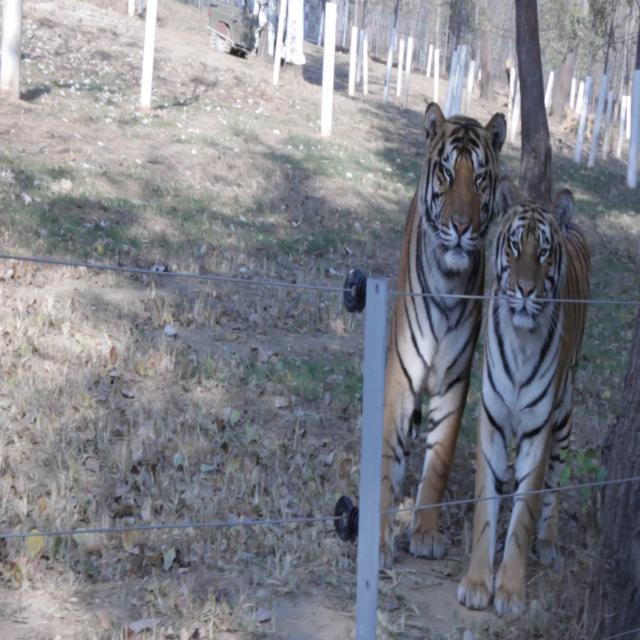Tiger: (367, 86, 508, 570), (456, 174, 591, 622)
